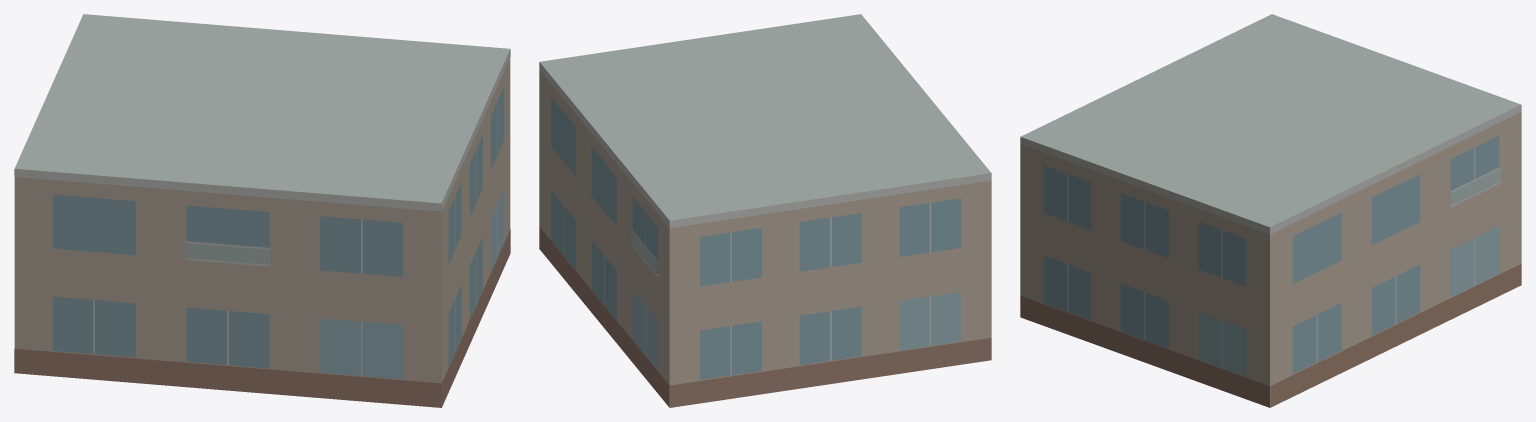
File: survey-upis-32722639.glb
The picture shows the model from 3 angles, left to right: view 1: azimuth 30°, elevation 25°; view 2: azimuth 150°, elevation 25°; view 3: azimuth 270°, elevation 25°; orthographic projection. The views are drawn at different scales.
Visible parts, largest first — view 1: survey-upis-32722639.tmp; view 2: survey-upis-32722639.tmp; view 3: survey-upis-32722639.tmp.
Boxes of the visible parts, <box> form: survey-upis-32722639.tmp: <box>14,14,510,407</box>; survey-upis-32722639.tmp: <box>539,14,991,407</box>; survey-upis-32722639.tmp: <box>1020,14,1521,407</box>.
Size of the model in its own units: 15.47 by 6.1 by 15.35.
